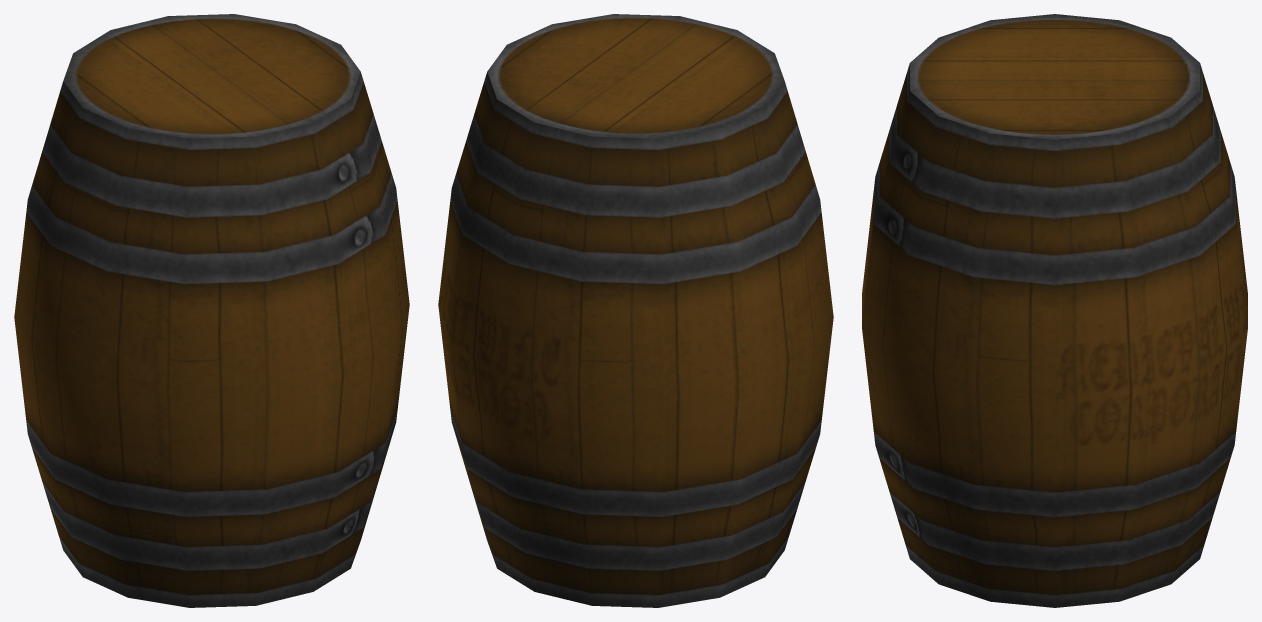
File: SM_Barrel.fbx
The picture shows the model from 3 angles, left to right: view 1: azimuth 30°, elevation 25°; view 2: azimuth 150°, elevation 25°; view 3: azimuth 270°, elevation 25°; orthographic projection.
Visible parts, largest first — view 1: Barrel; view 2: Barrel; view 3: Barrel.
Part boxes in pixels (x1=…): Barrel: x1=14, y1=14, x2=409, y2=607; Barrel: x1=438, y1=14, x2=833, y2=607; Barrel: x1=862, y1=14, x2=1247, y2=607.
Bounding box in the file's own units: 419 × 547 × 409.
